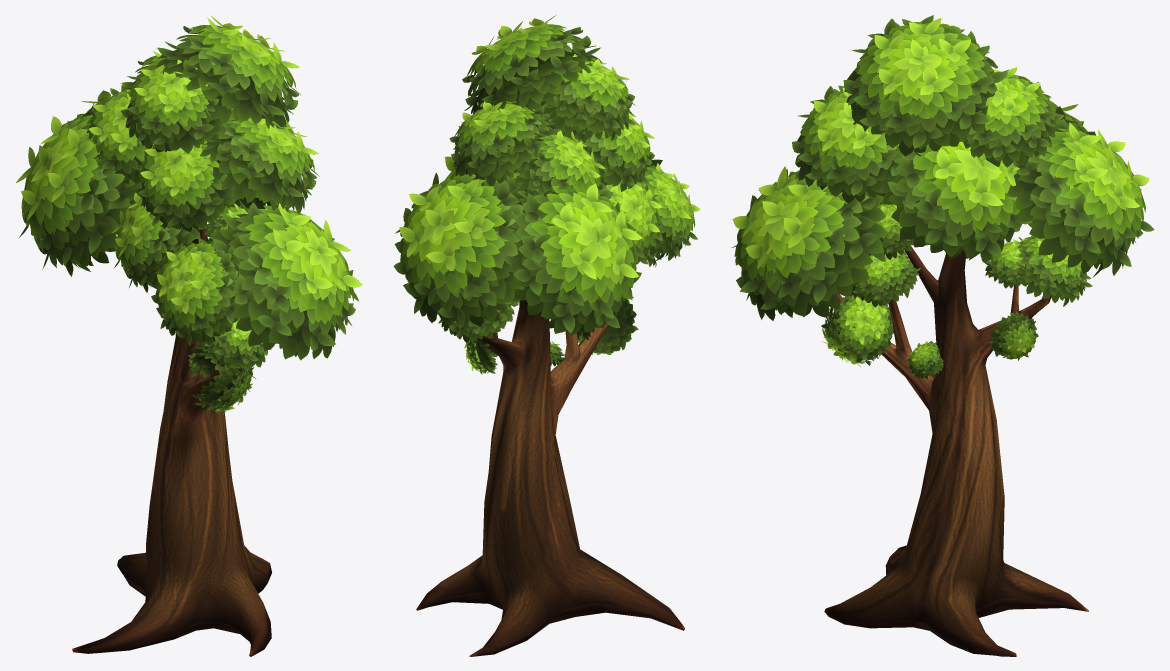
File: tree004.fbx
The picture shows the model from 3 angles, left to right: view 1: azimuth 30°, elevation 25°; view 2: azimuth 150°, elevation 25°; view 3: azimuth 270°, elevation 25°; orthographic projection. The views are drawn at different scales.
Visible parts, largest first — view 1: Tree02; view 2: Tree02; view 3: Tree02.
Boxes of the visible parts, <box> form: Tree02: <box>16,15,362,656</box>; Tree02: <box>393,15,699,656</box>; Tree02: <box>731,15,1154,656</box>.
Size of the model in its own units: 637 by 1566 by 1005.
Materials: 2 (2 with a texture image).
